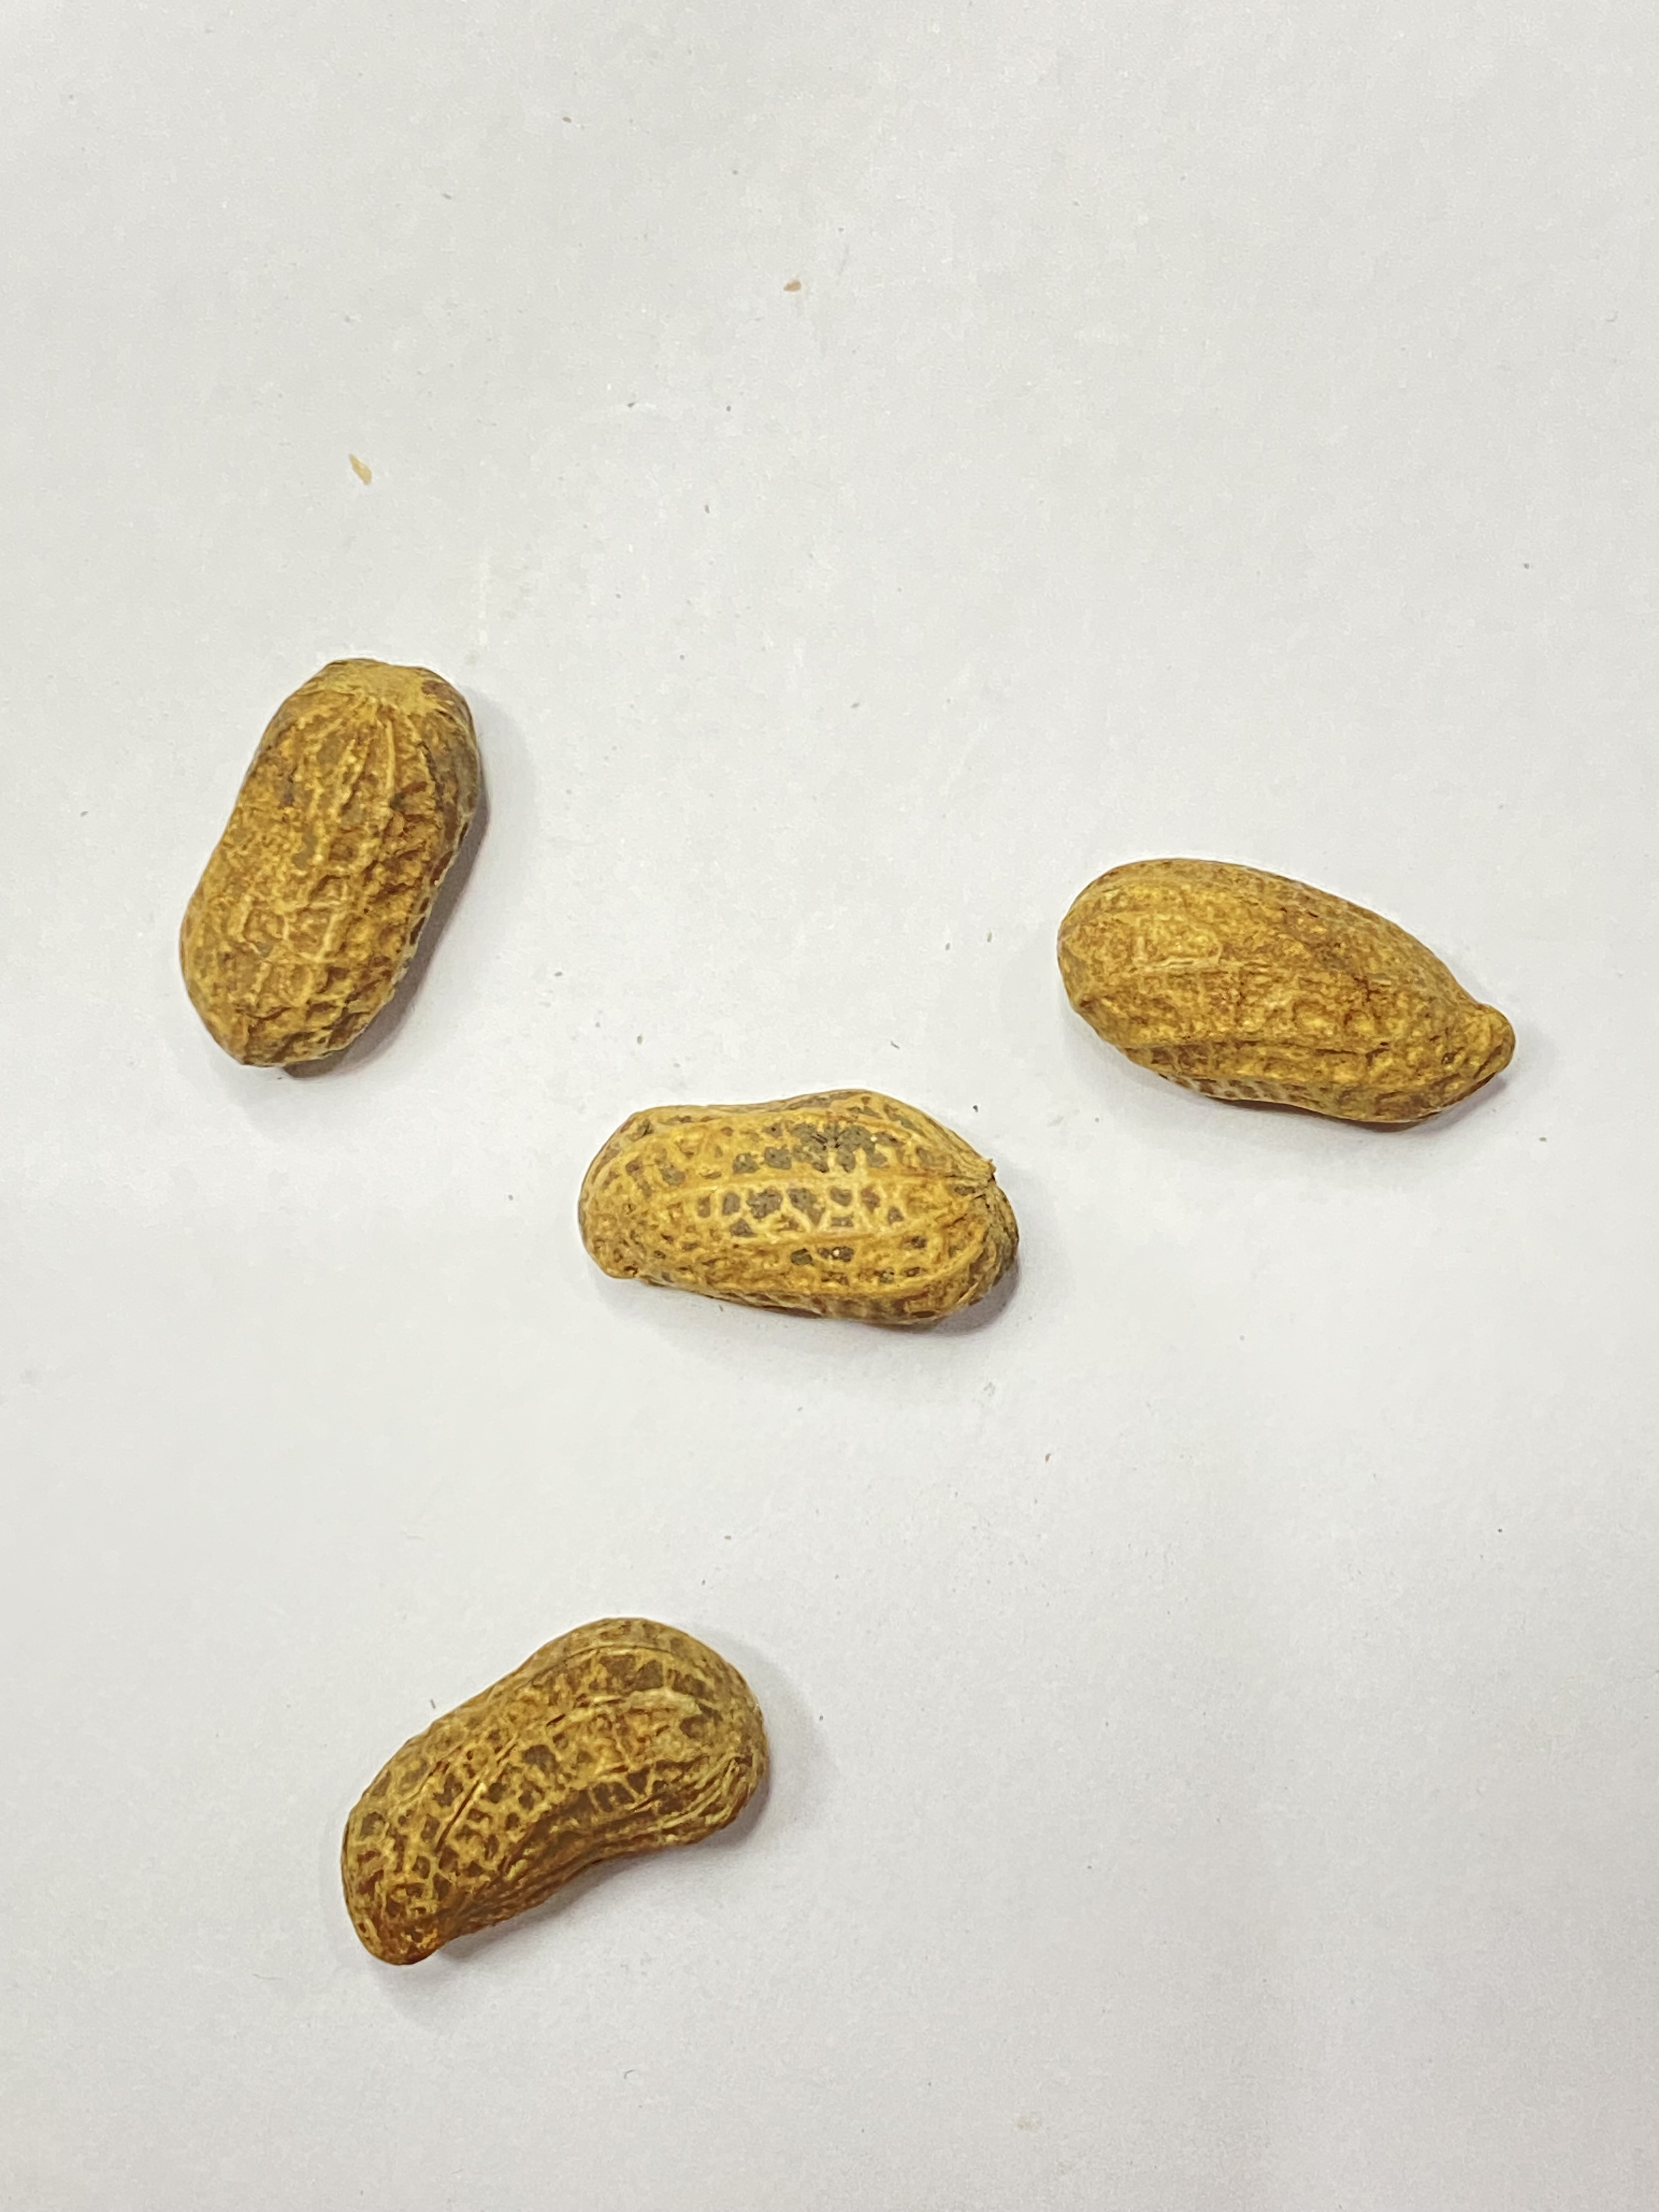kacang1: (138, 618, 552, 1068), (1053, 834, 1534, 1134), (450, 1089, 1023, 1336)
kacang2: (286, 1599, 889, 1963)
